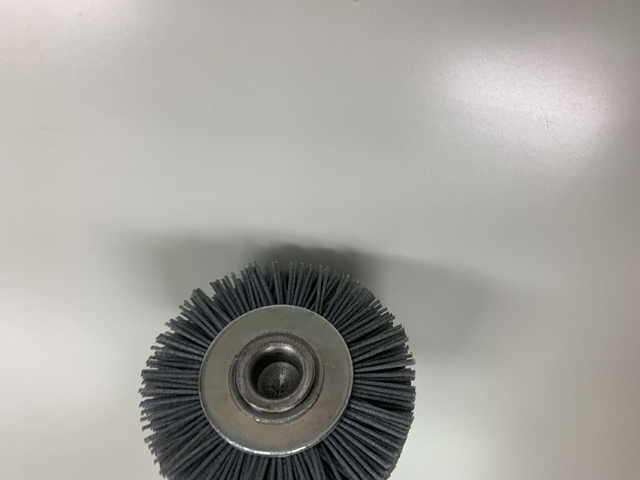Wheel Brush: (129, 253, 422, 480), (162, 251, 425, 480)
